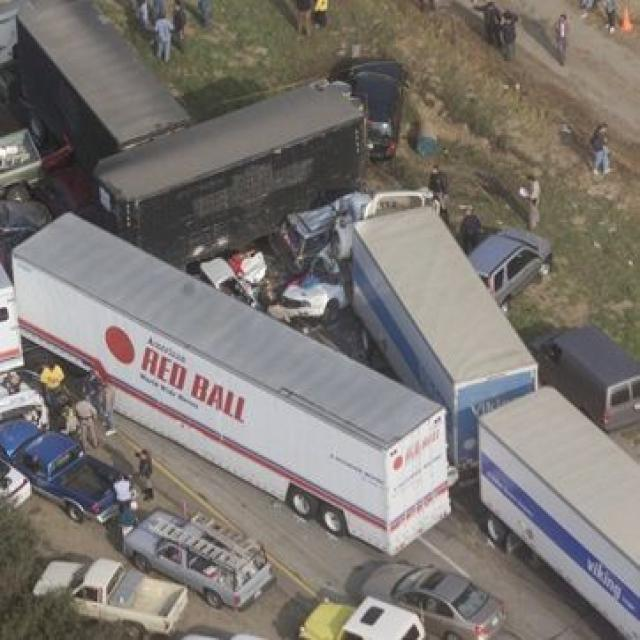traffic_incident: (175, 166, 513, 364)
